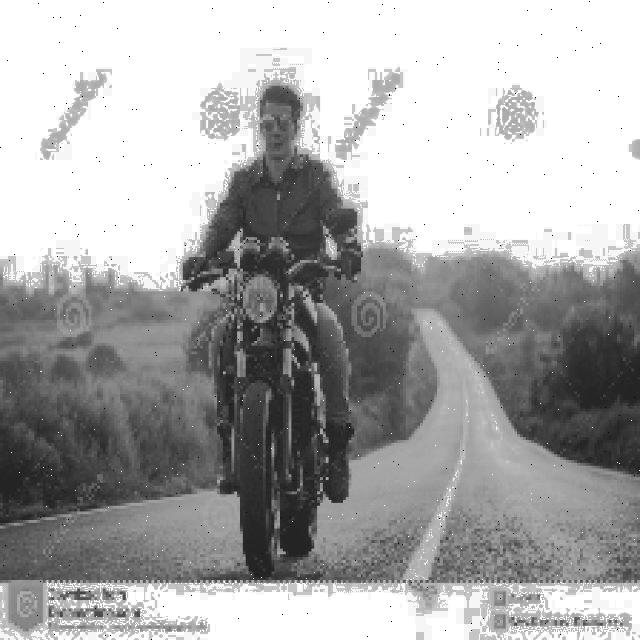Bike: (203, 235, 351, 569)
